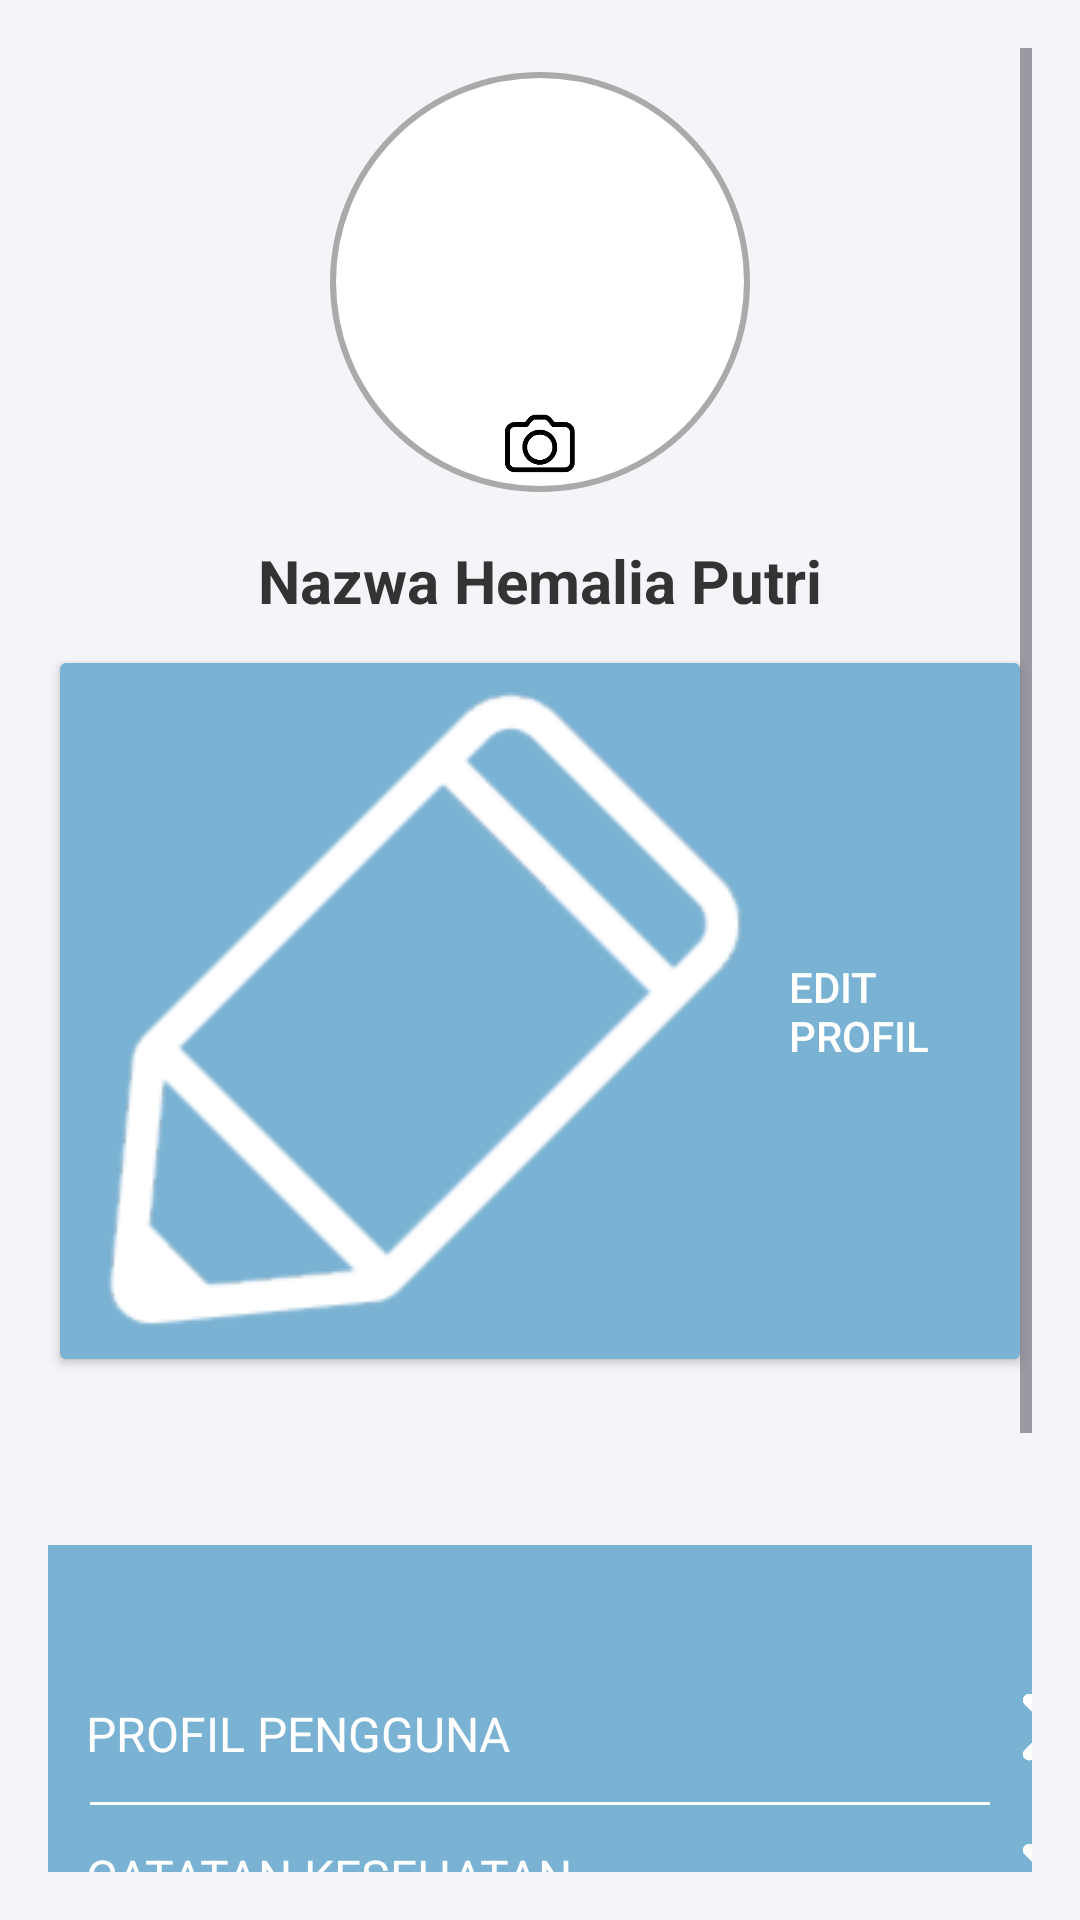

Icon bounding boxes for this 1080px x 1920px phone screenshot, format (x1, y1, x2, y2):
camera: (505, 414, 575, 473)
